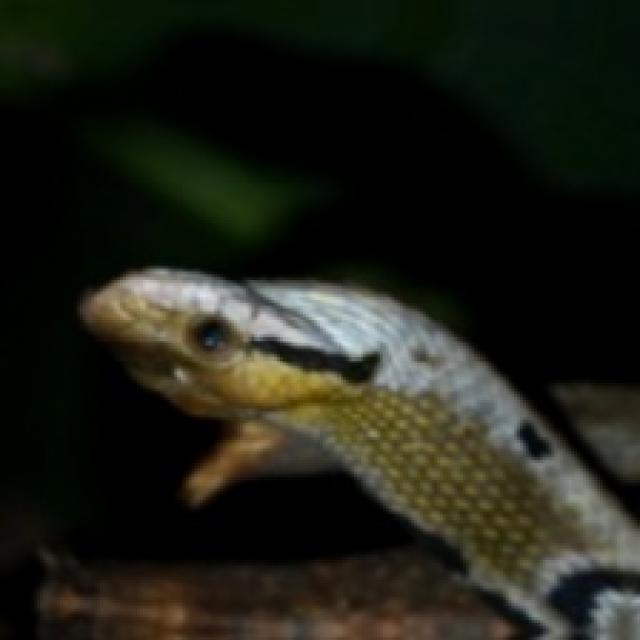dog-toothed cat snake: (80, 269, 637, 637)
